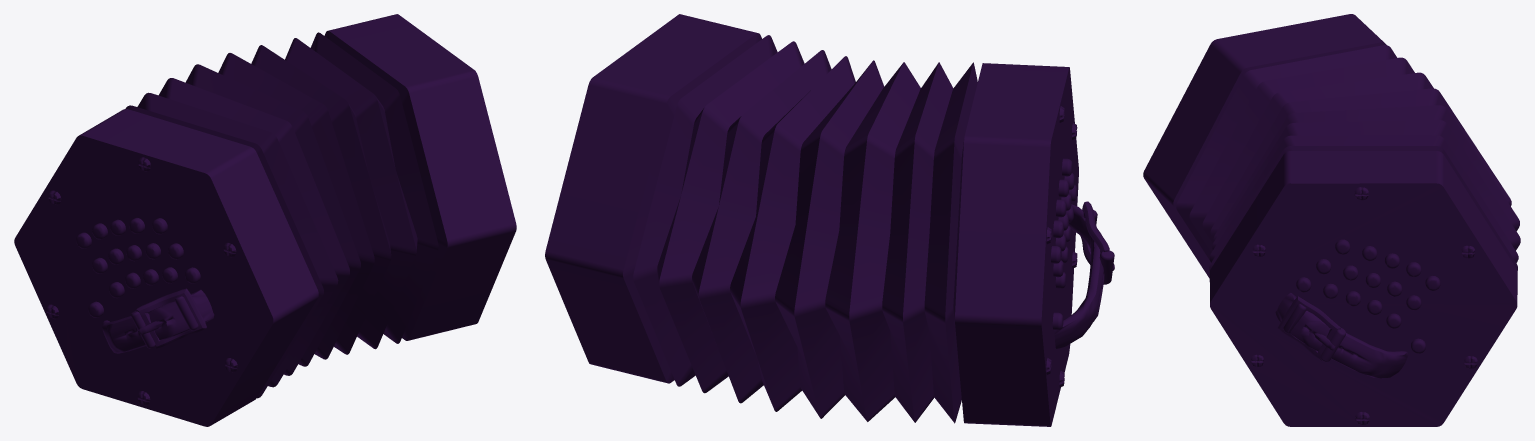
File: cage03.obj
3 views of the same model, side by side, from view 1: azimuth 30°, elevation 25°; view 2: azimuth 150°, elevation 25°; view 3: azimuth 270°, elevation 25° (orthographic). The views are drawn at different scales.
Parts seen in each view (by area): view 1: polySurface270, screwHighPoly:polySurface170 screwHighPoly:polySurface314 polySu; view 2: polySurface270; view 3: polySurface270, screwHighPoly:polySurface170 screwHighPoly:polySurface314 polySu.
Boxes of the visible parts, x1,y1,x2,y2 form: polySurface270: (14,14,516,426); screwHighPoly:polySurface170 screwHighPoly:polySurface314 polySu: (46,157,237,405); polySurface270: (545,14,1114,426); polySurface270: (1143,14,1520,426); screwHighPoly:polySurface170 screwHighPoly:polySurface314 polySu: (1250,187,1477,424).
Size of the model in its own units: 12.56 by 7.06 by 9.87.
